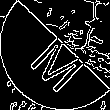M_NE: (22, 21, 88, 89)
